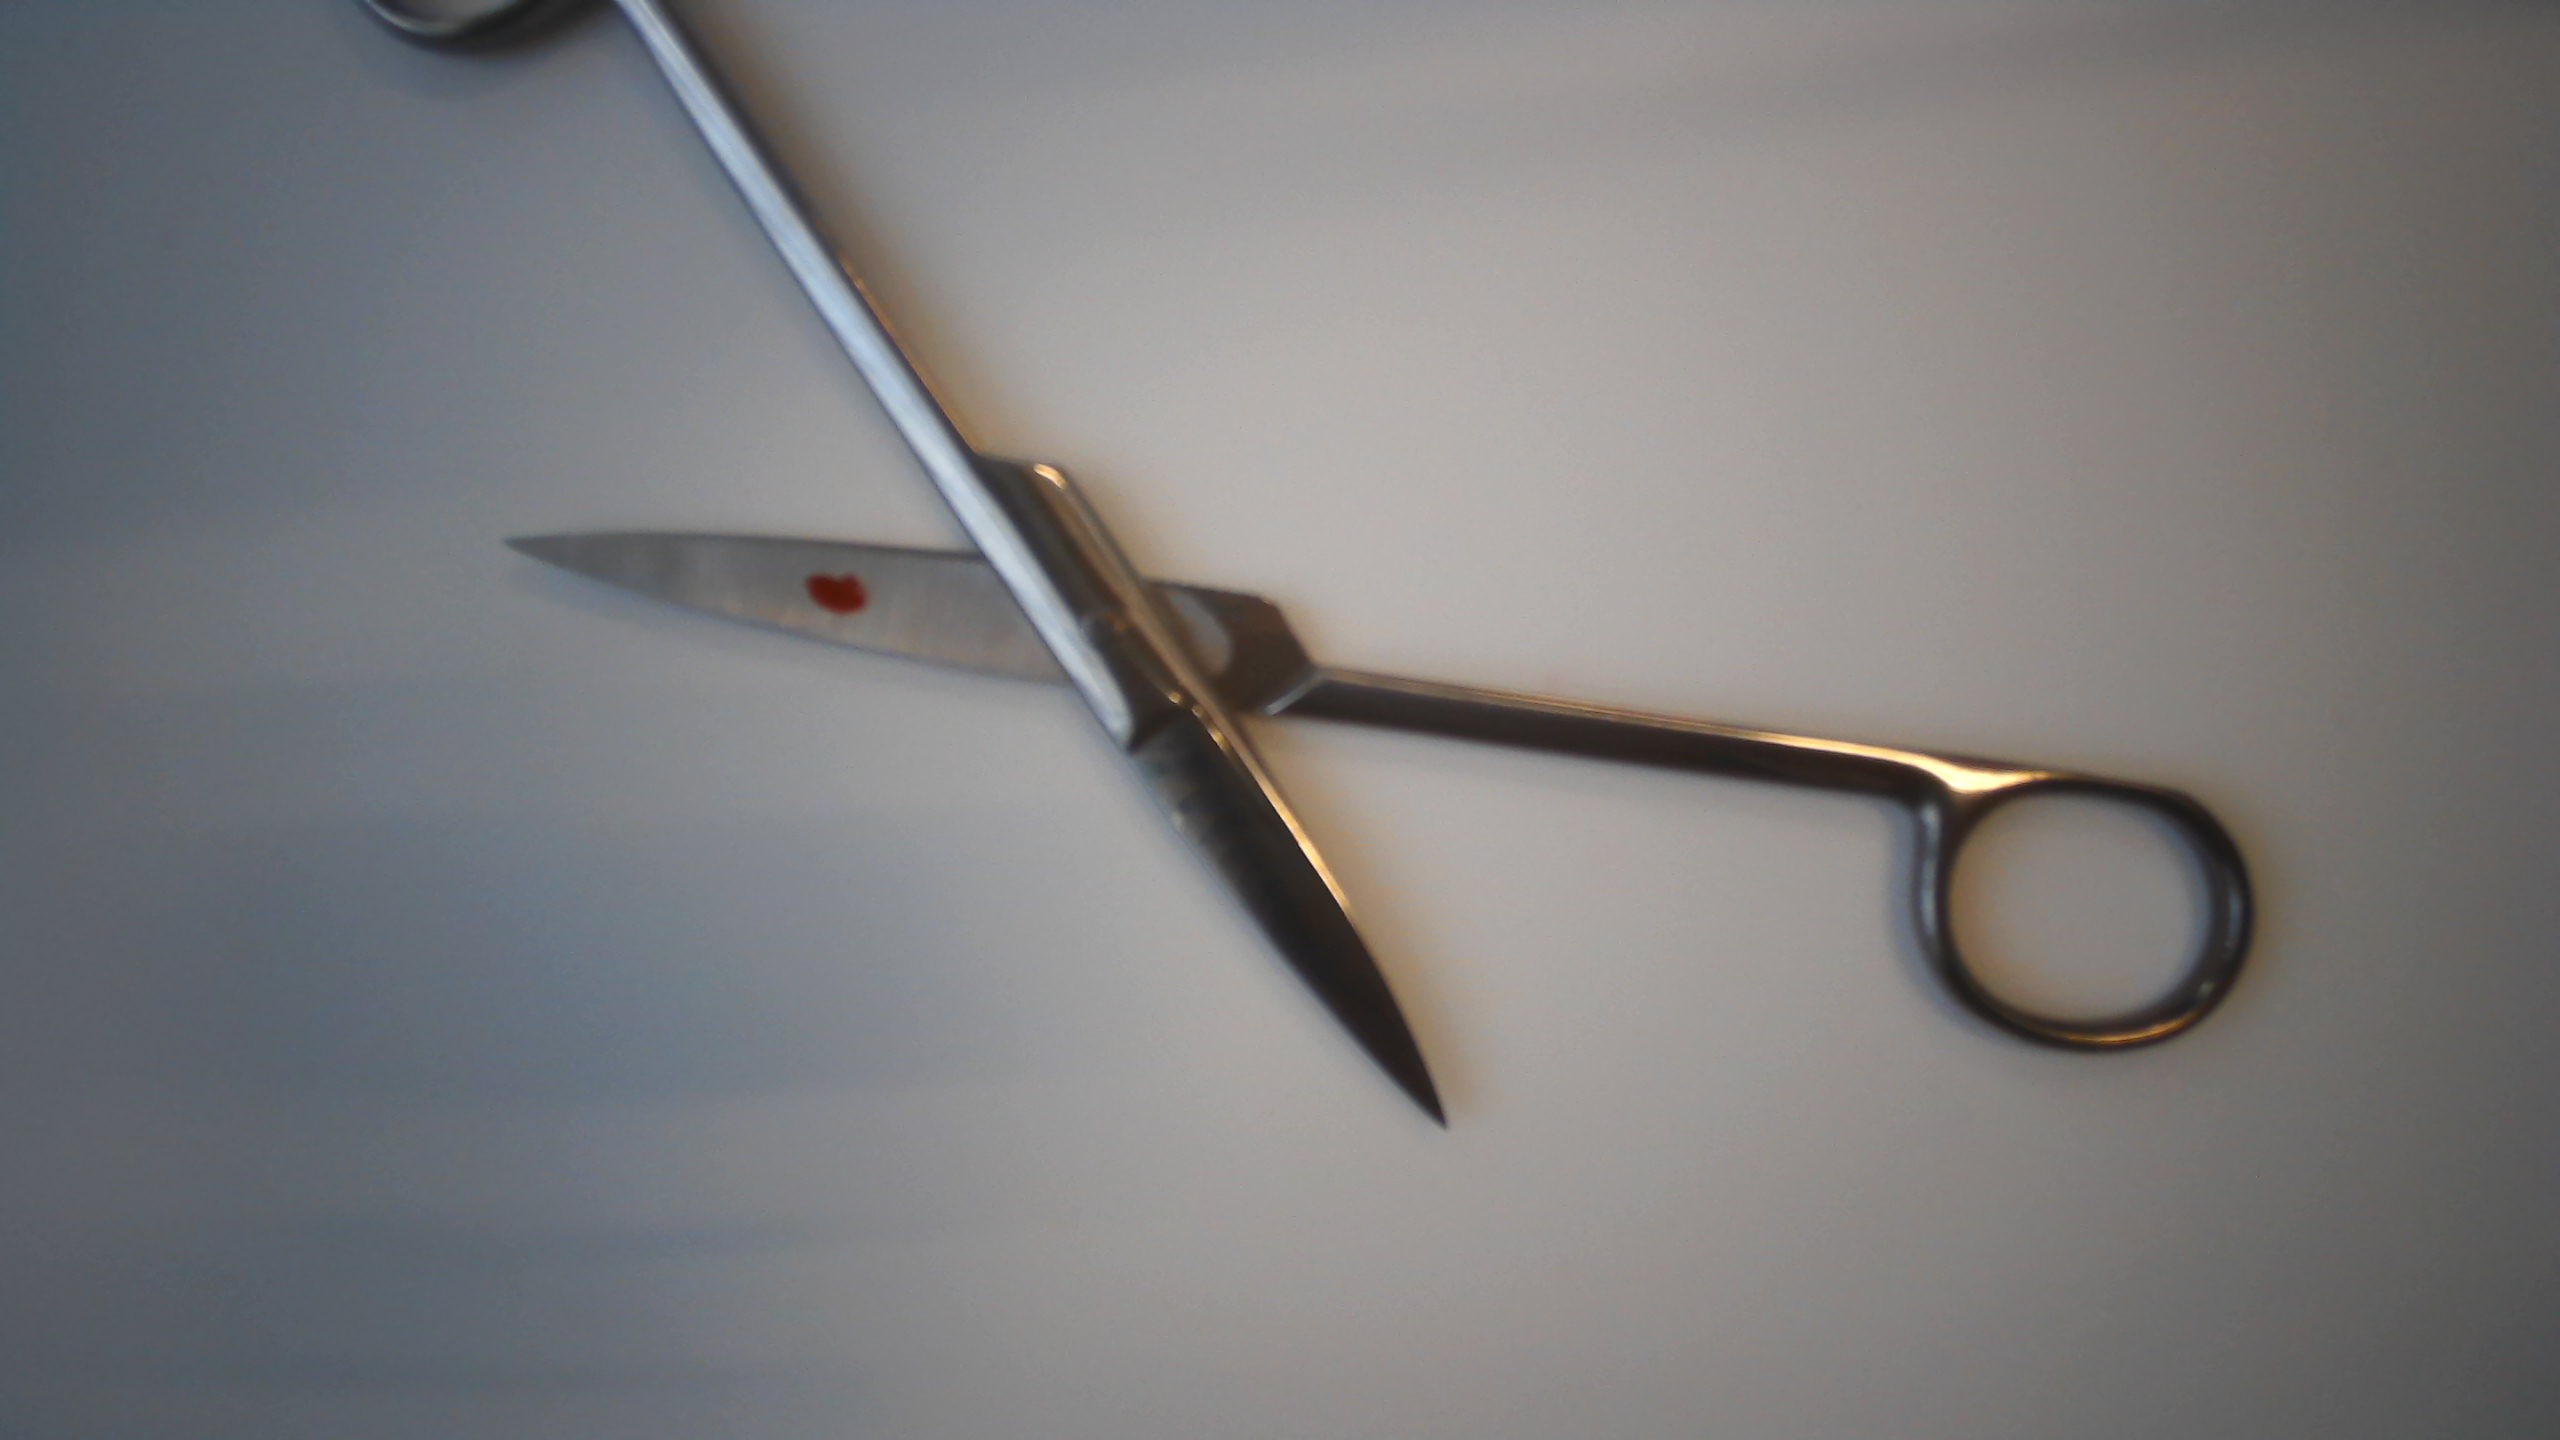Stain: (795, 566, 872, 631)
